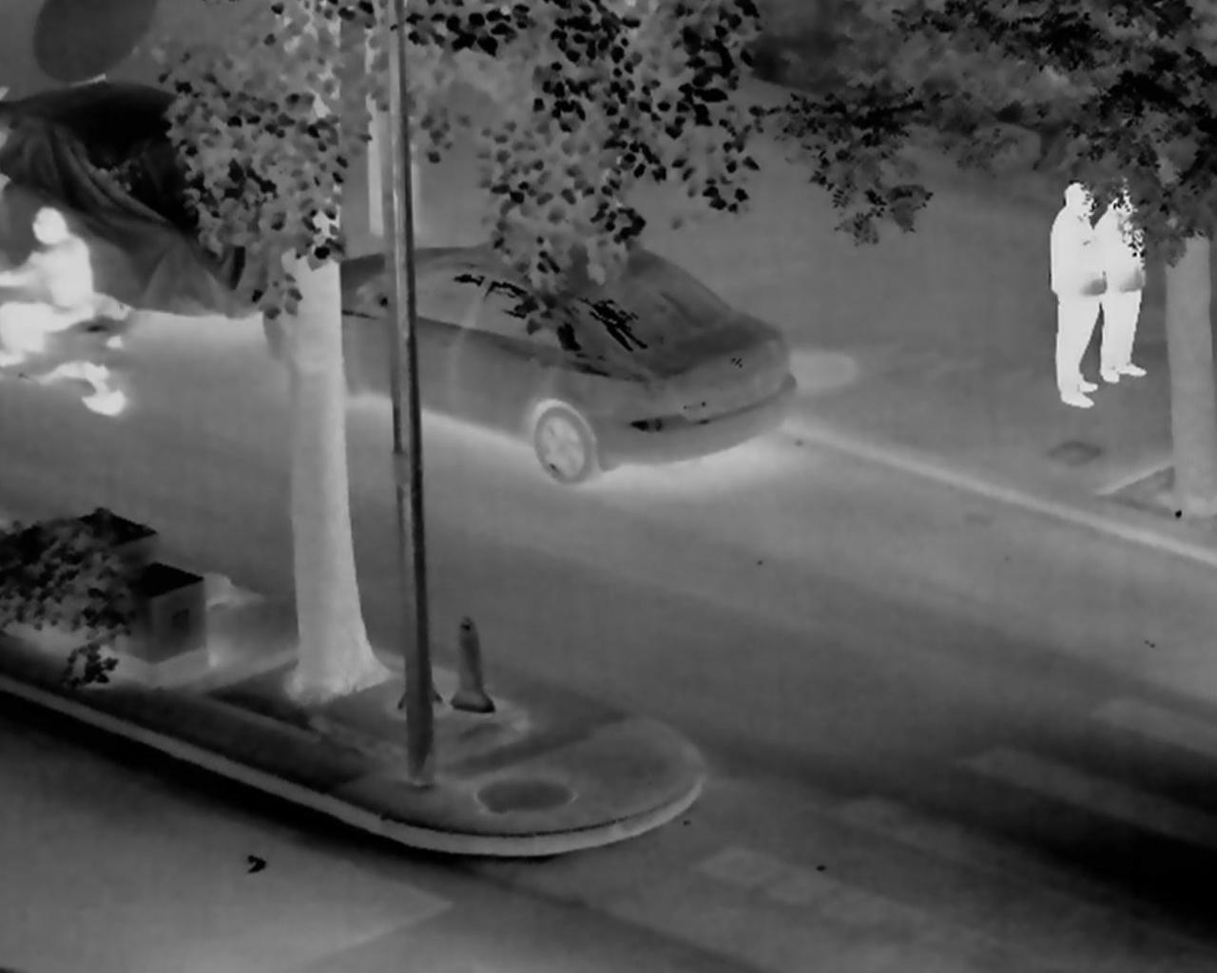person: (1048, 183, 1105, 408), (1095, 180, 1150, 386)
